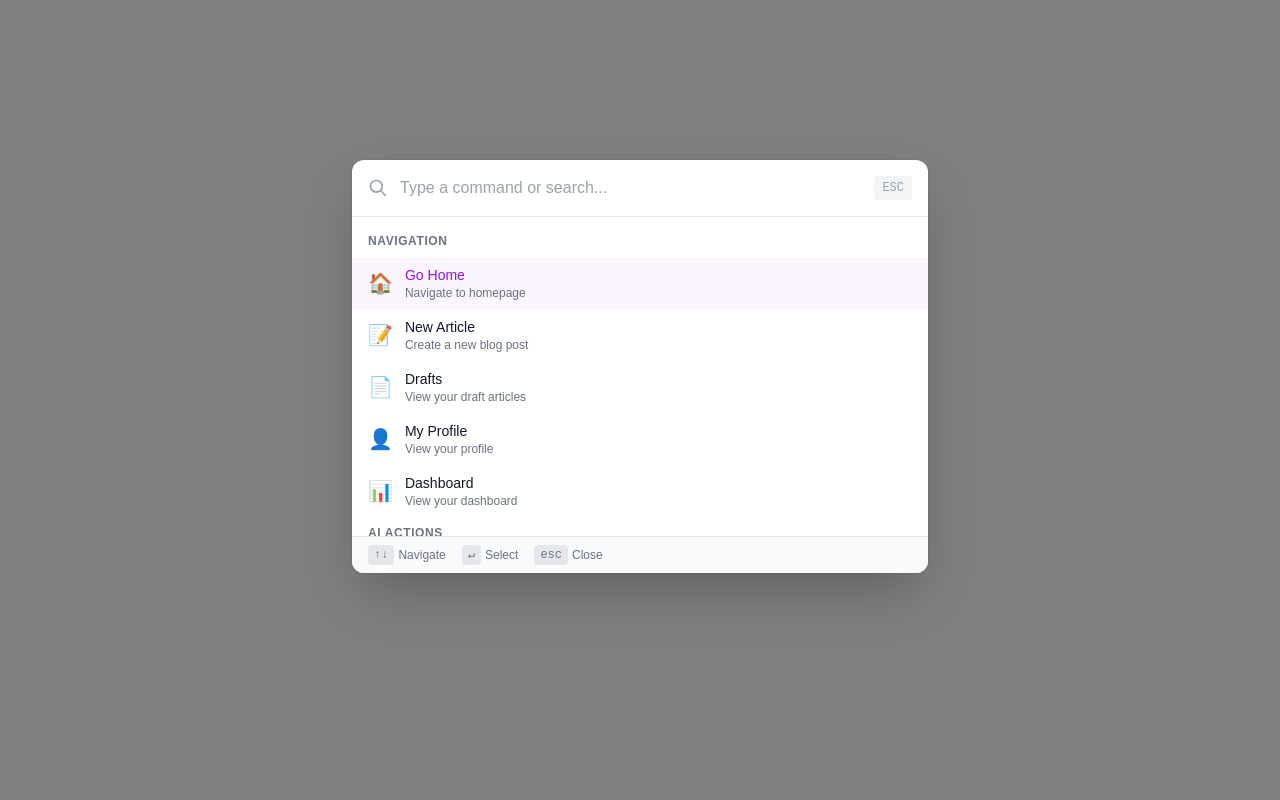
CommandPalette › search filtering › filters commands by name when typing
Type "home" into the field with placeholder "Type a command or search..." at (640,188), box [352,160,928,216]
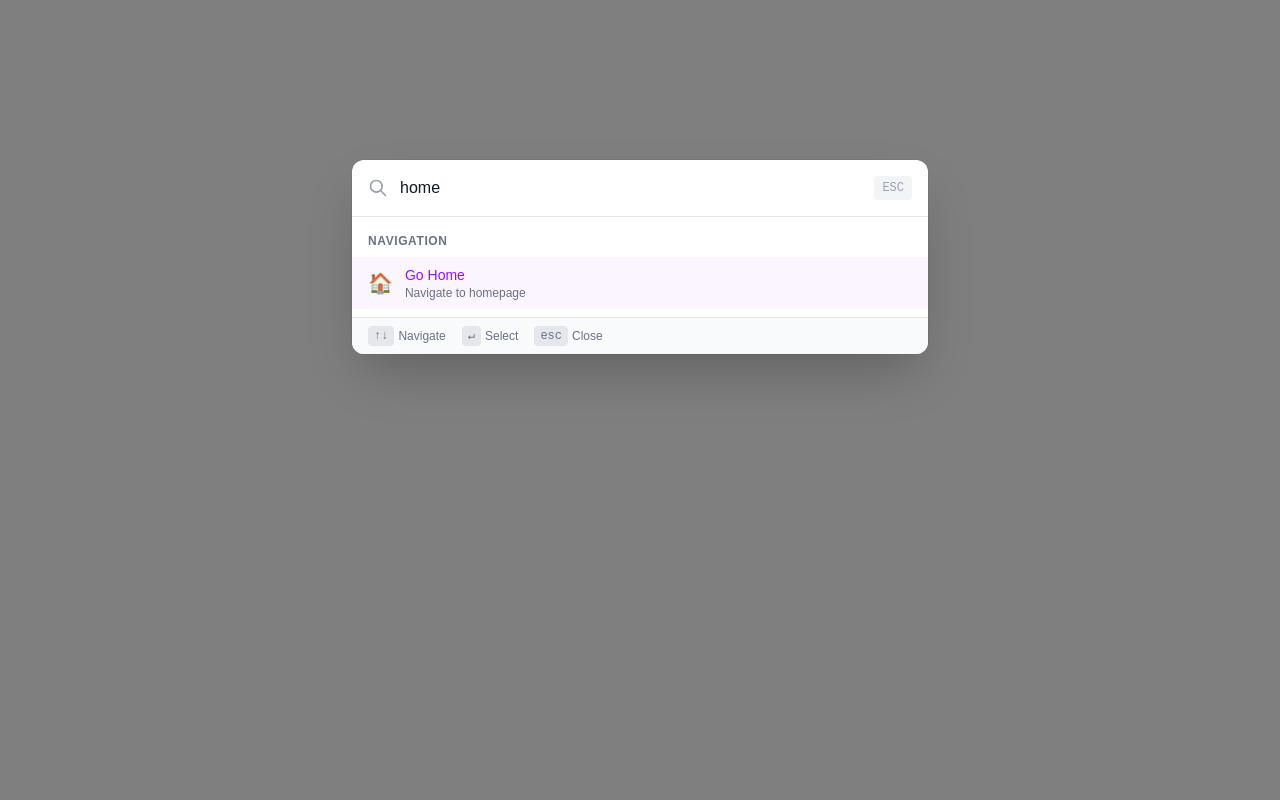
Check: the text "Go Home" is shown, box [405,267,465,283]
Check: the button "New Article" is gone
